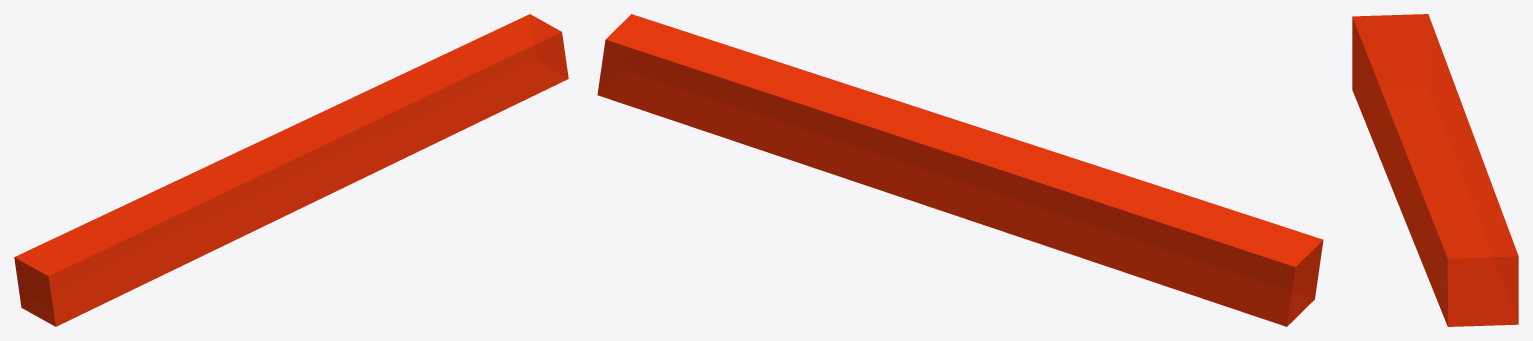
The model's file is Event_421364160_EErechit_33.fbx.
3 renders of one model, left to right at view 1: azimuth 30°, elevation 25°; view 2: azimuth 150°, elevation 25°; view 3: azimuth 270°, elevation 25°, orthographic. The views are drawn at different scales.
Visible parts, largest first — view 1: Model; view 2: Model; view 3: Model.
Part boxes in pixels (bbox=[...]): Model: bbox=[14, 14, 568, 326]; Model: bbox=[597, 14, 1323, 326]; Model: bbox=[1352, 14, 1518, 326].
Bounding box in the file's own units: 0.8663 × 0.2016 × 0.1695.
